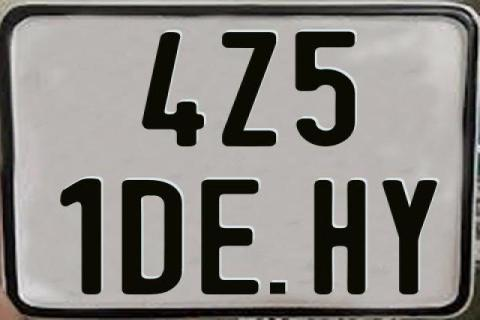0: (141, 30, 207, 144), (292, 31, 356, 146), (57, 177, 101, 295)
D: (122, 178, 187, 298)
E: (201, 179, 262, 299)
H: (314, 178, 366, 296)
Y: (379, 178, 438, 294)
Z: (221, 31, 279, 145)
